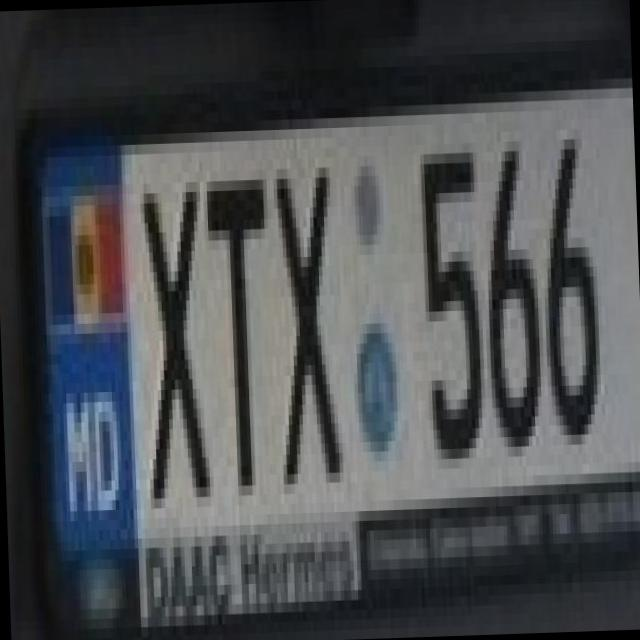5: (404, 122, 494, 450)
6: (464, 110, 553, 438), (524, 108, 606, 436)
T: (194, 150, 274, 487)
X: (257, 137, 343, 484), (124, 162, 210, 499)
